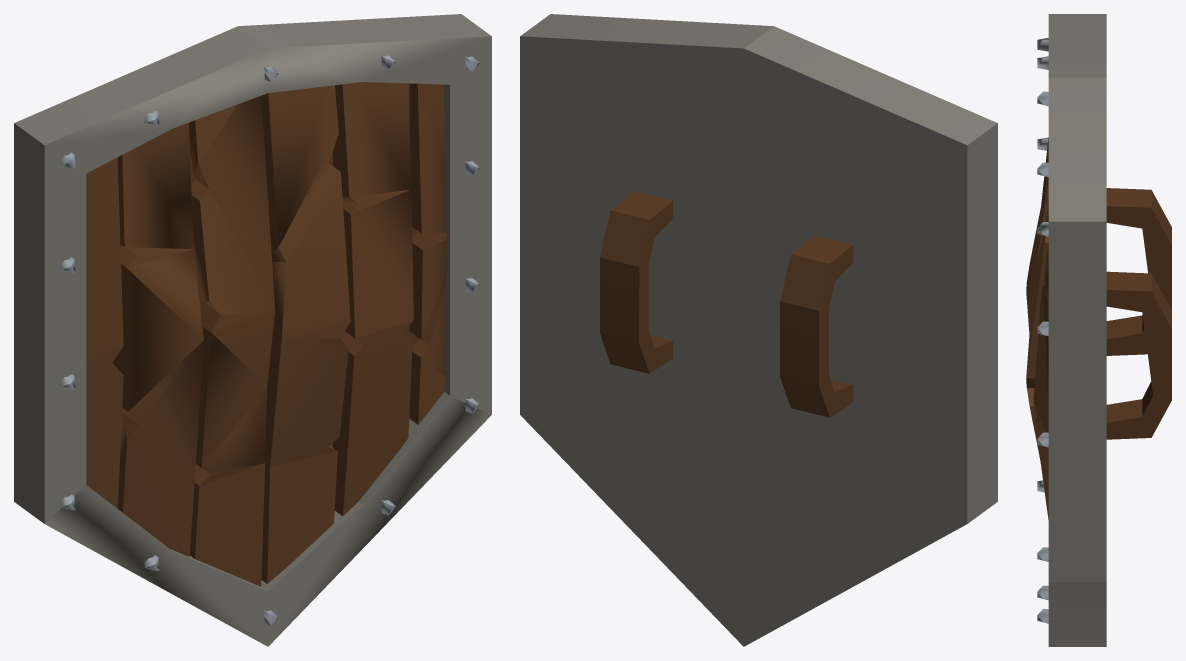
Rendered from cc0-shield-heater-lod1.glb.
3 renders of one model, left to right at view 1: azimuth 30°, elevation 25°; view 2: azimuth 150°, elevation 25°; view 3: azimuth 270°, elevation 25°, orthographic. The views are drawn at different scales.
Visible parts, largest first — view 1: part_0; view 2: part_0; view 3: part_0.
Part boxes in pixels (x1=…): part_0: x1=14, y1=14, x2=491, y2=646; part_0: x1=520, y1=14, x2=997, y2=646; part_0: x1=1026, y1=14, x2=1171, y2=646.
Size of the model in its own units: 2.01 by 2.56 by 0.5944.
